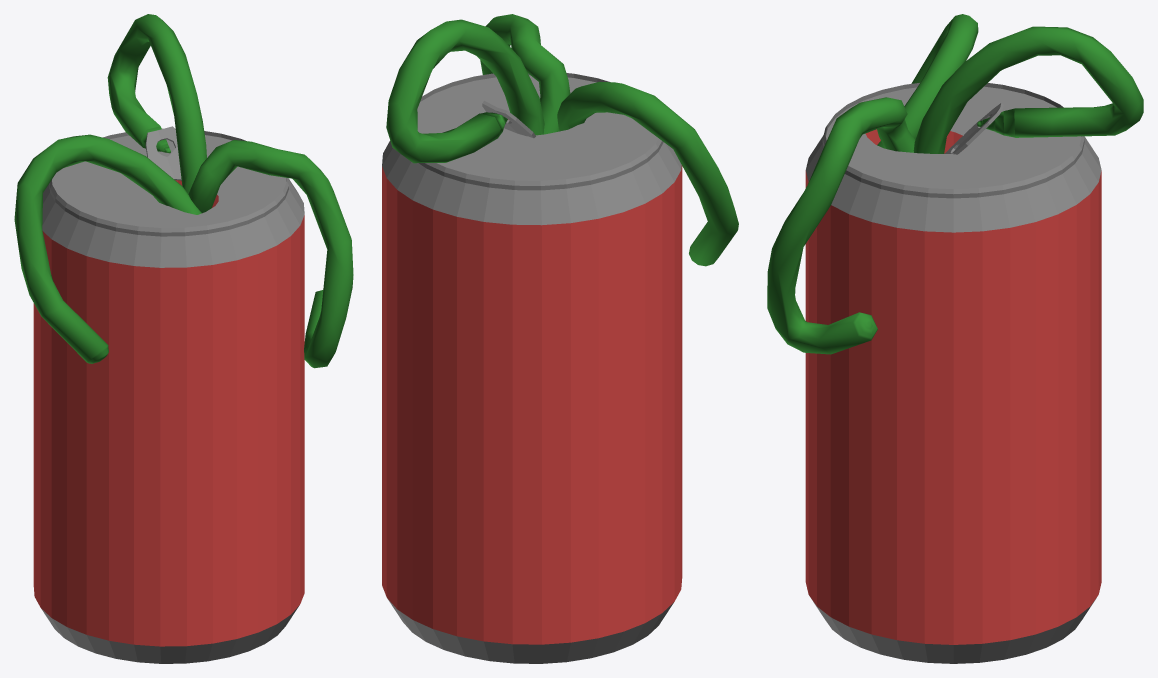
Rendered from NormalEnemyModel.fbx.
3 renders of one model, left to right at view 1: azimuth 30°, elevation 25°; view 2: azimuth 150°, elevation 25°; view 3: azimuth 270°, elevation 25°, orthographic. The views are drawn at different scales.
Visible parts, largest first — view 1: Logo, Vines, Metal; view 2: Logo, Metal, Vines; view 3: Logo, Metal, Vines.
Part boxes in pixels (bbox=[...]): Logo: bbox=[33, 180, 304, 646]; Vines: bbox=[14, 14, 353, 368]; Metal: bbox=[41, 126, 304, 663]; Logo: bbox=[382, 119, 682, 644]; Metal: bbox=[382, 73, 681, 663]; Vines: bbox=[386, 14, 738, 266]; Logo: bbox=[805, 129, 1101, 644]; Metal: bbox=[806, 83, 1101, 663]; Vines: bbox=[767, 14, 1143, 354].
Bounding box in the file's own units: 246 × 447 × 254.
